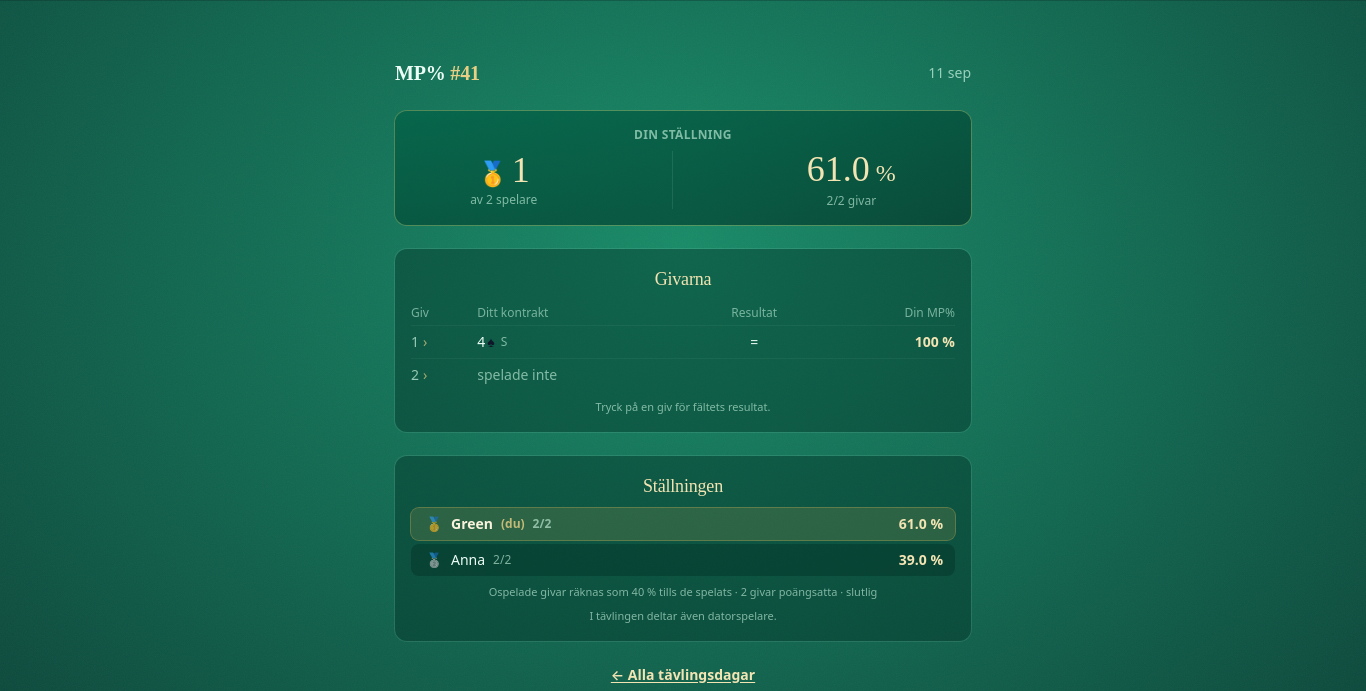
Scenario: tävlingshistoriken › djuplänk ?dag= öppnar dagvyn direkt; bricka → traveller (med dag) → spelare → "Så spelade X"
The image size is (1366, 691).
Expected: the heading "Givarna" is shown, [655,269,711,289]
Click the button titled "Visa fältets resultat" at (415, 342), box [411,326,955,359]
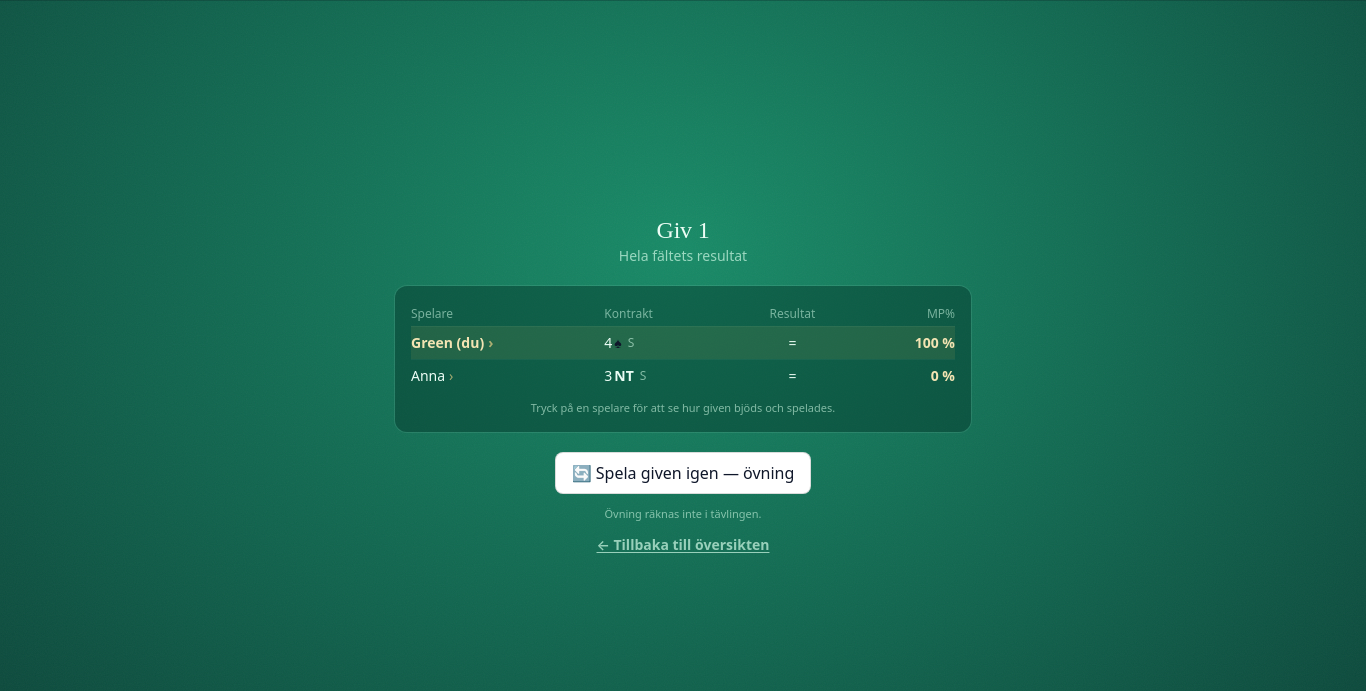
Result: the text "Hela fältets resultat" is shown at [619,246,747,264]
Click the button titled "Se hur Anna spelade given" at (428, 375), box [411,359,955,392]
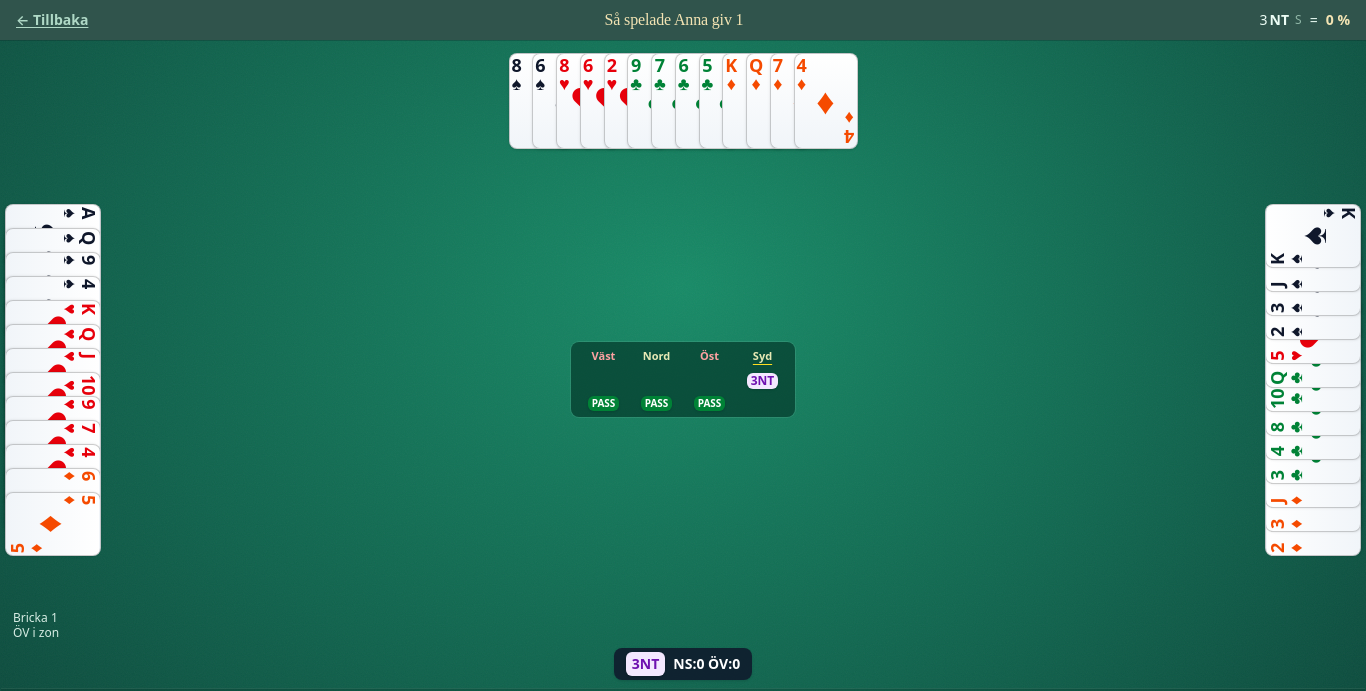
Result: the heading "Så spelade Anna giv 1" is shown at [605,11,743,28]
Result: the text "Bricka 1" is shown at [13,609,58,626]
Note: Tillbaka hela vägen till listvyn.
Click the button "← Tillbaka" at (52, 20), box [16,10,88,30]
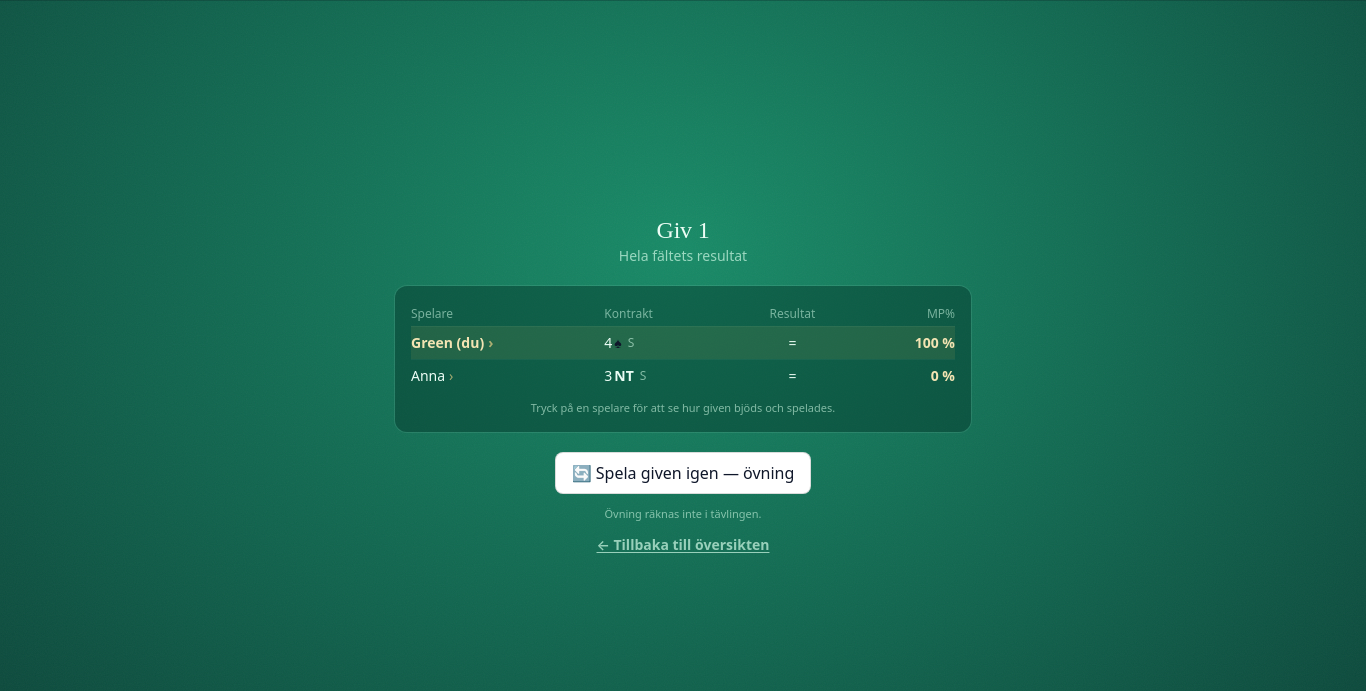
Result: the text "Hela fältets resultat" is shown at [619,246,747,264]
Click the button "← Tillbaka till översikten" at (683, 544), box [596,534,770,554]
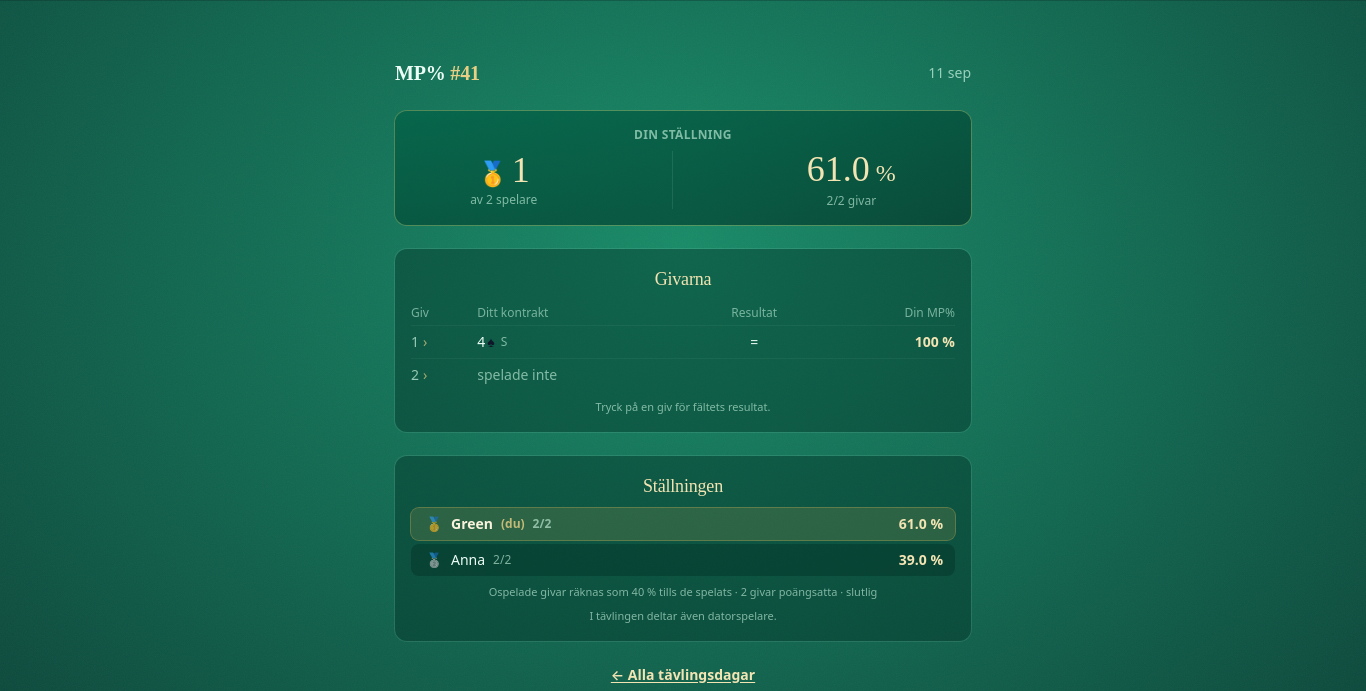
Result: the heading "Givarna" is shown at [655,269,711,289]
Click the button "← Alla tävlingsdagar" at (683, 675), box [611,665,755,685]
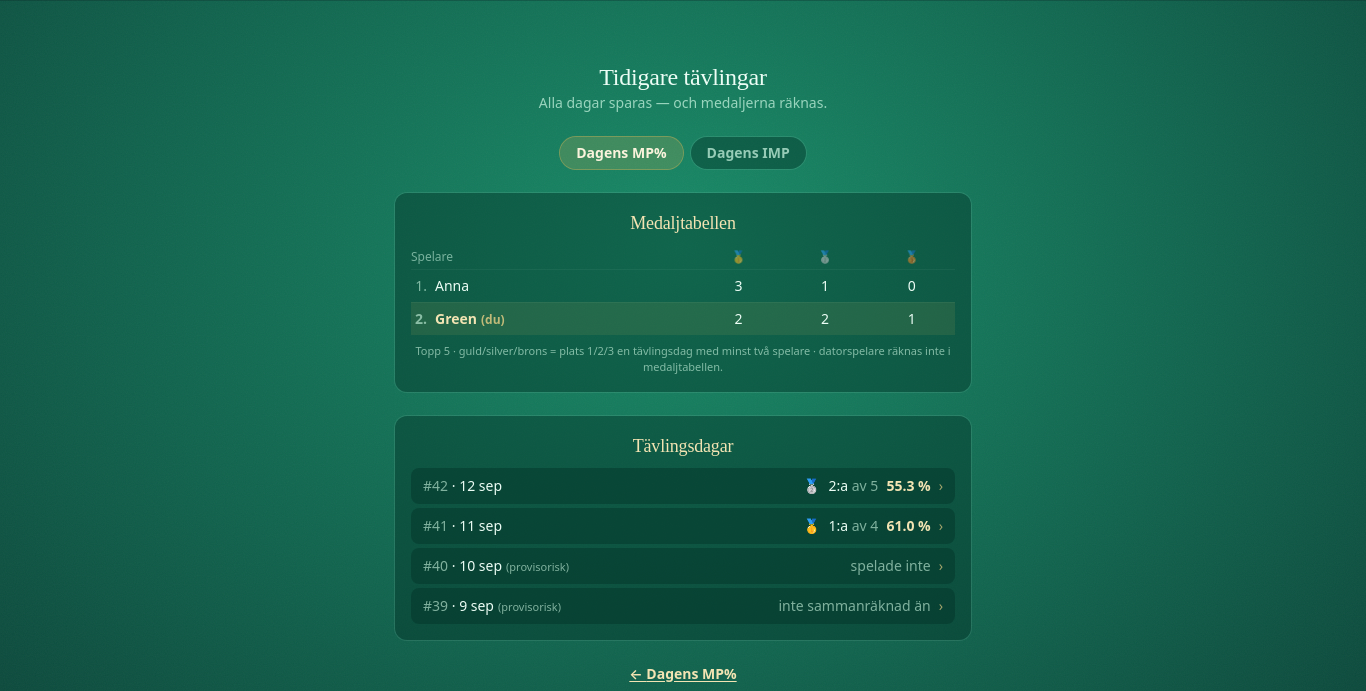
Result: the heading "Medaljtabellen" is shown at [630,212,736,232]
